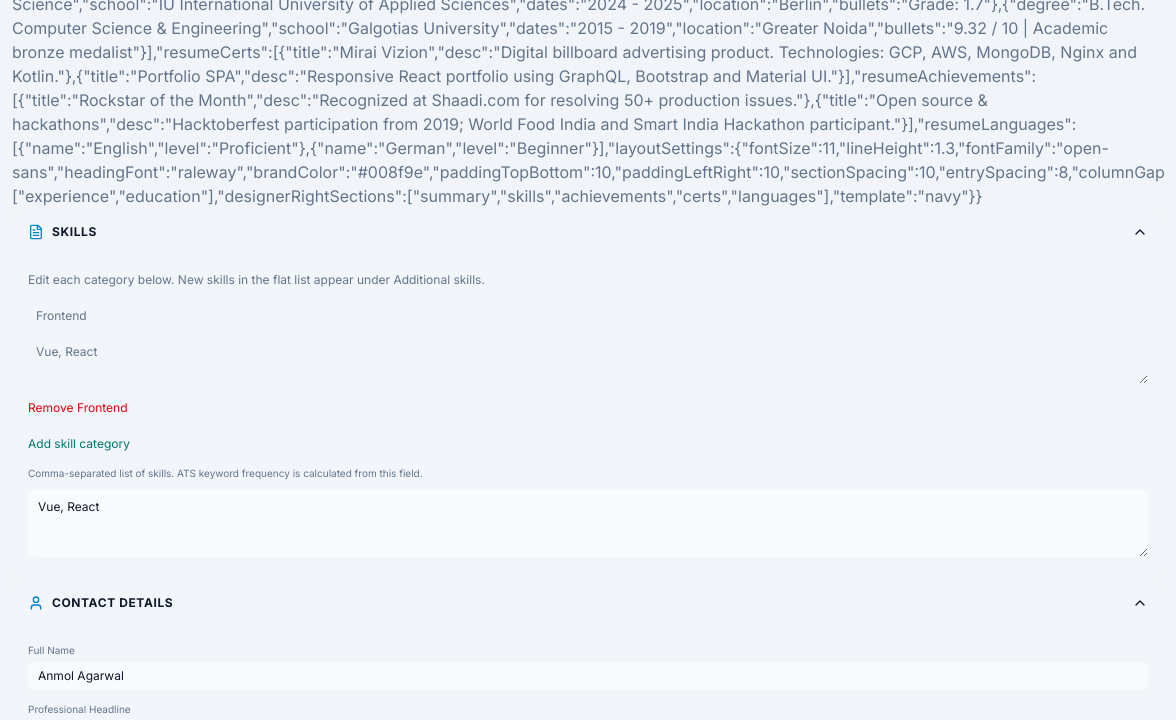
Test: Template parity: real form and canvas paths › navy: grouped sidebar additions and renames survive a renderer update
The image size is (1176, 720).
(page scrolled)
Replace the text in the text box named "Skills in Frontend" with "Vue, React, Svelte" at (588, 360), box top-left (28, 336), bottom-right (1148, 384)
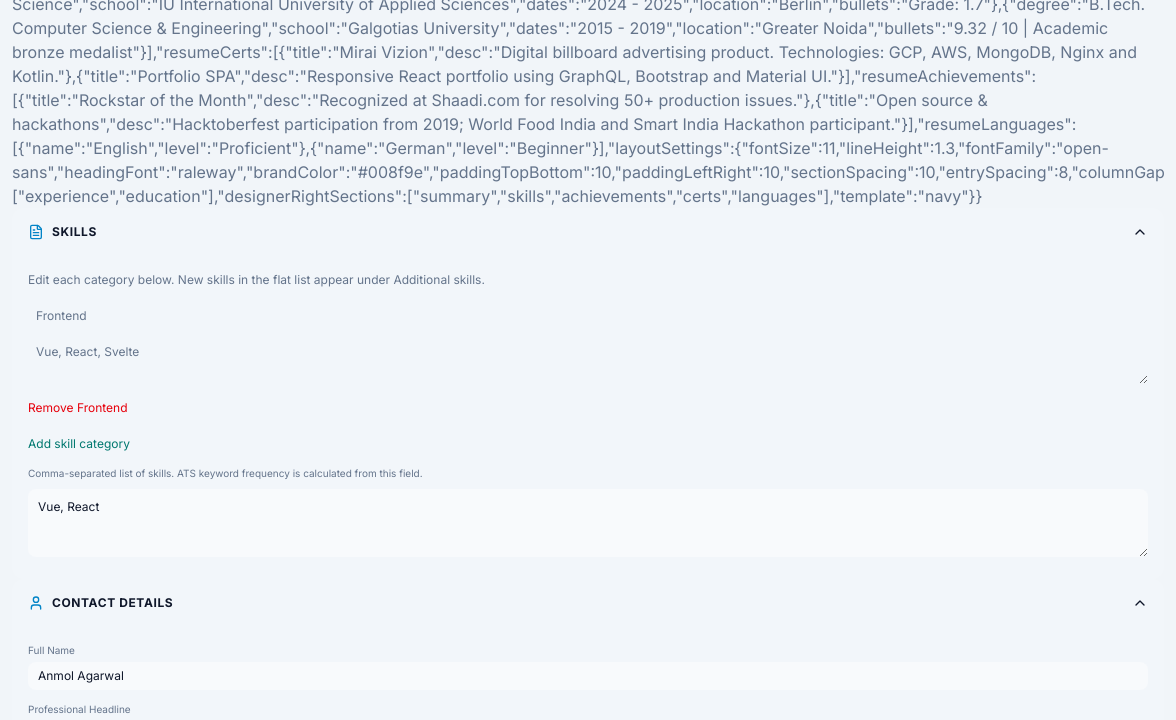
Leave the text box named "Skills in Frontend", box top-left (28, 336), bottom-right (1148, 384)
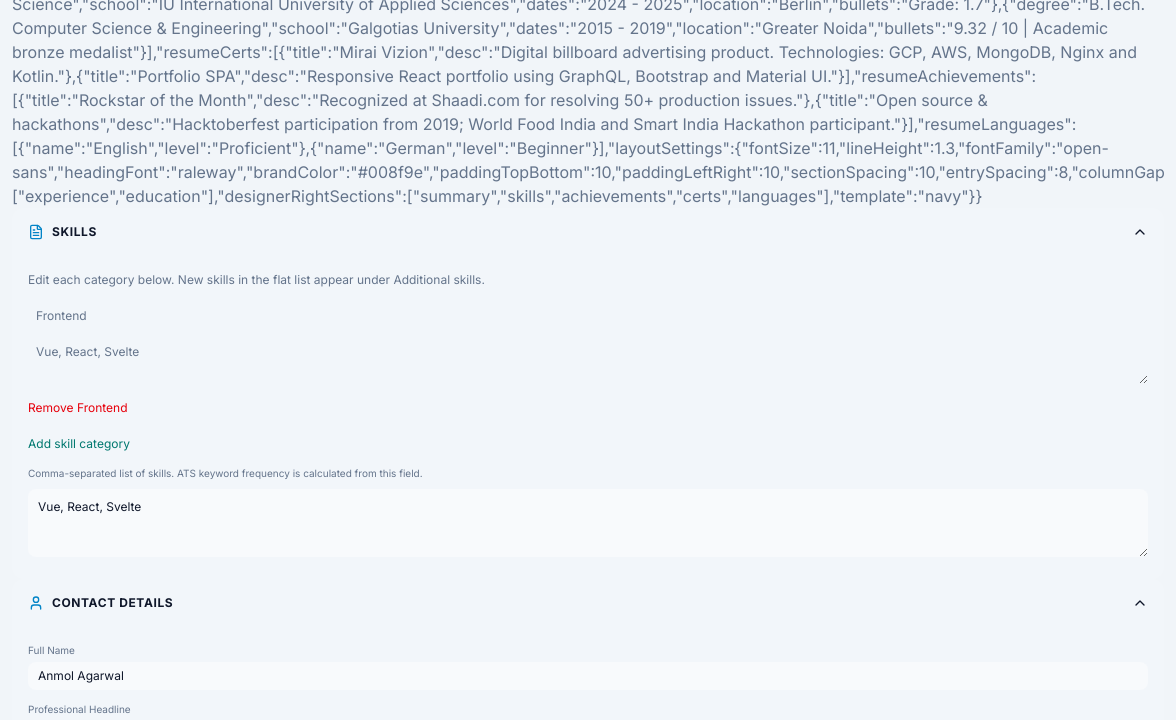
Replace the text in the field named "Skill category 1" with "Web" at (588, 316), box top-left (28, 300), bottom-right (1148, 332)
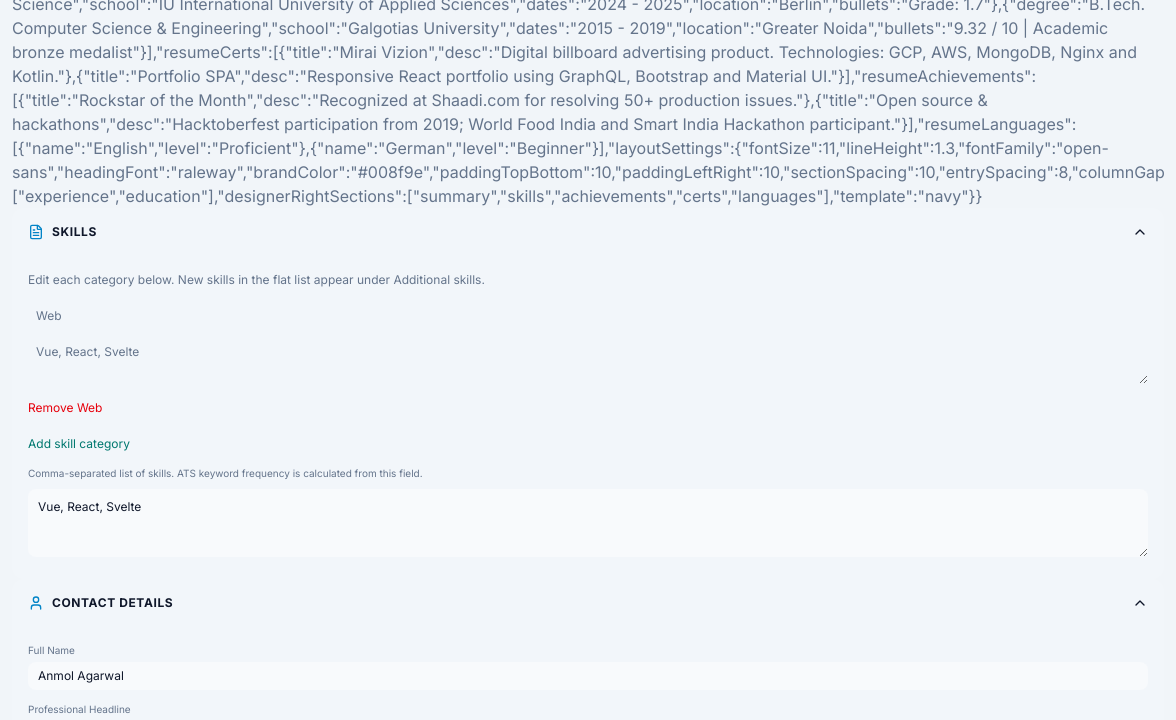
Replace the text in the text box named "All skills" with "Vue, React, Svelte, Rust" at (588, 523), box top-left (28, 489), bottom-right (1148, 557)
(page scrolled)
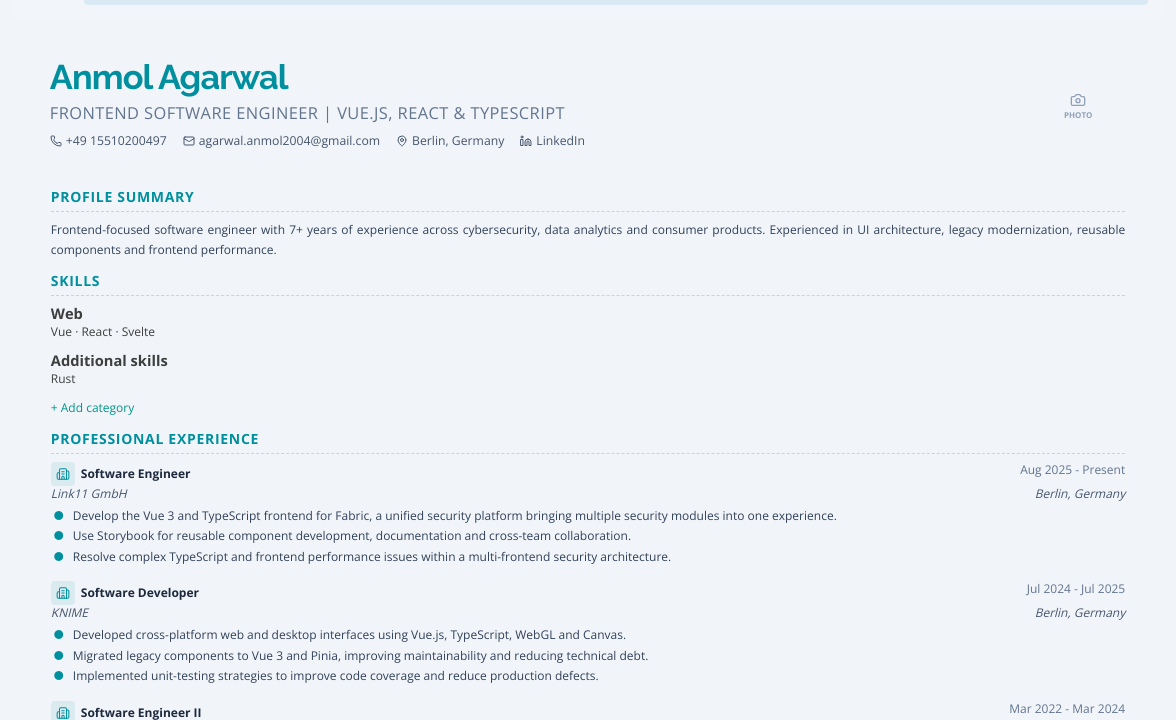
Expected: the element that starts with "Web" shows "Additional skills", top-left (51, 350), bottom-right (168, 370)
Expected: the element that starts with "Web" shows "Rust", top-left (51, 370), bottom-right (76, 387)
